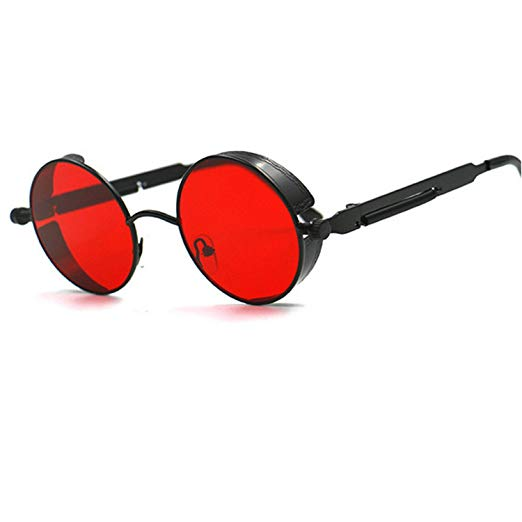sunglasses: (13, 145, 512, 315)
